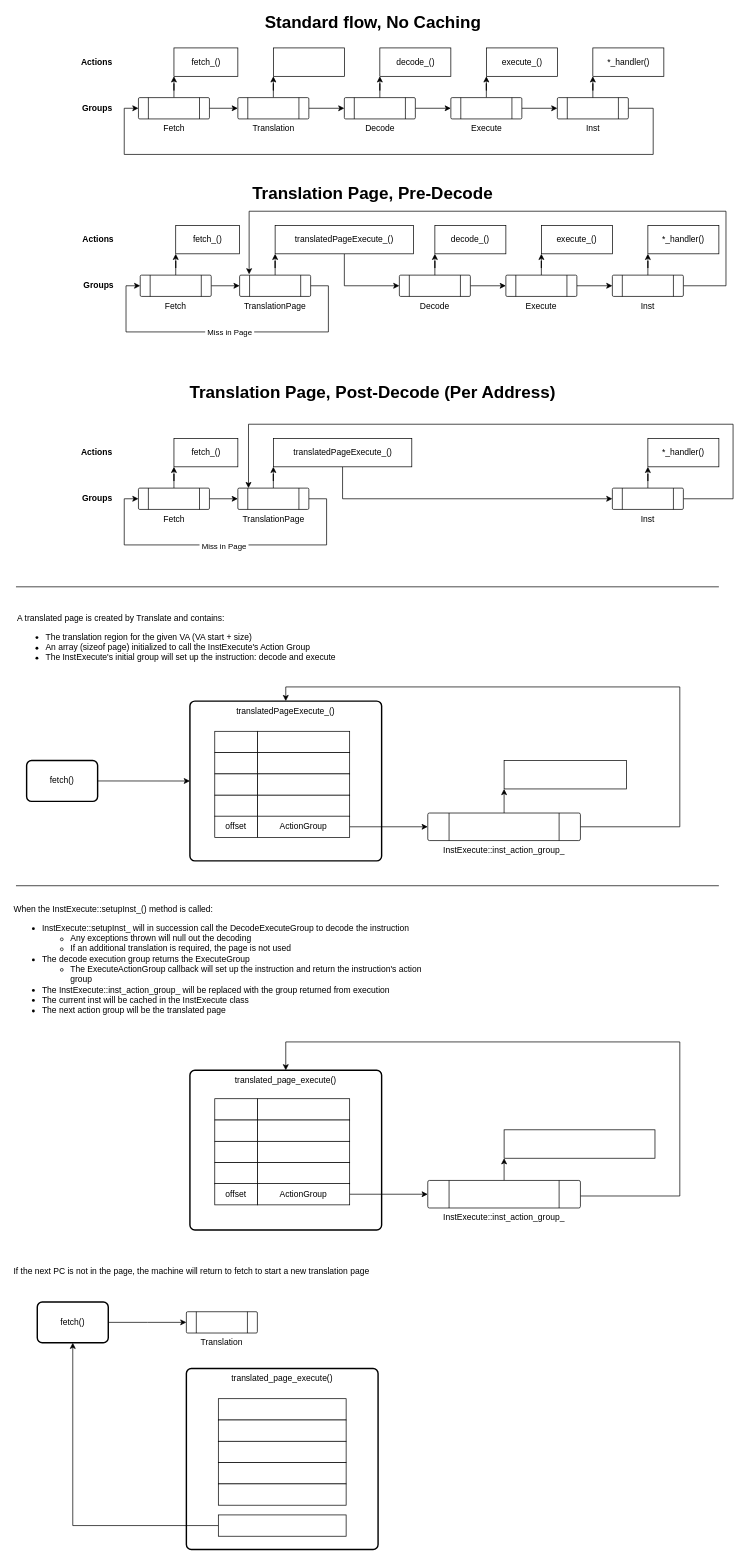
The diagram is 751 pixels wide and 1562 high, and some of its shapes have lost their labels. The centre of each missing label's shape, as x and y in pixels:
inst_action_group_ ("mnemonic"): point (579, 1143)
InstExecute::setupInst_(): point (565, 774)
out_of_bounds: point (282, 1525)
translate_(): point (308, 61)
